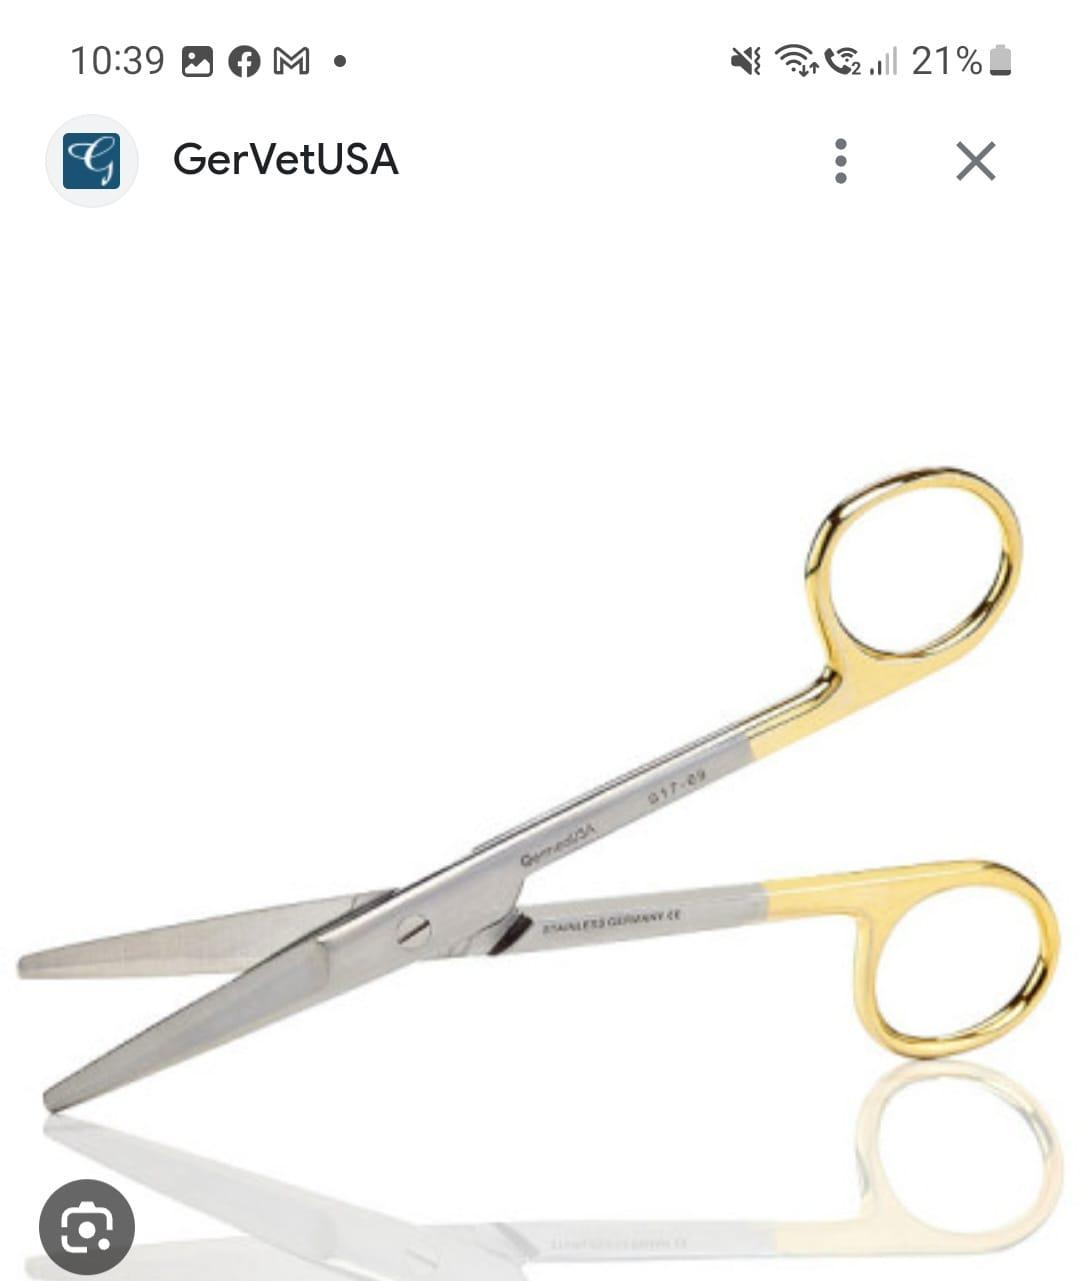Straight Mayo: (10, 450, 1060, 1128)
